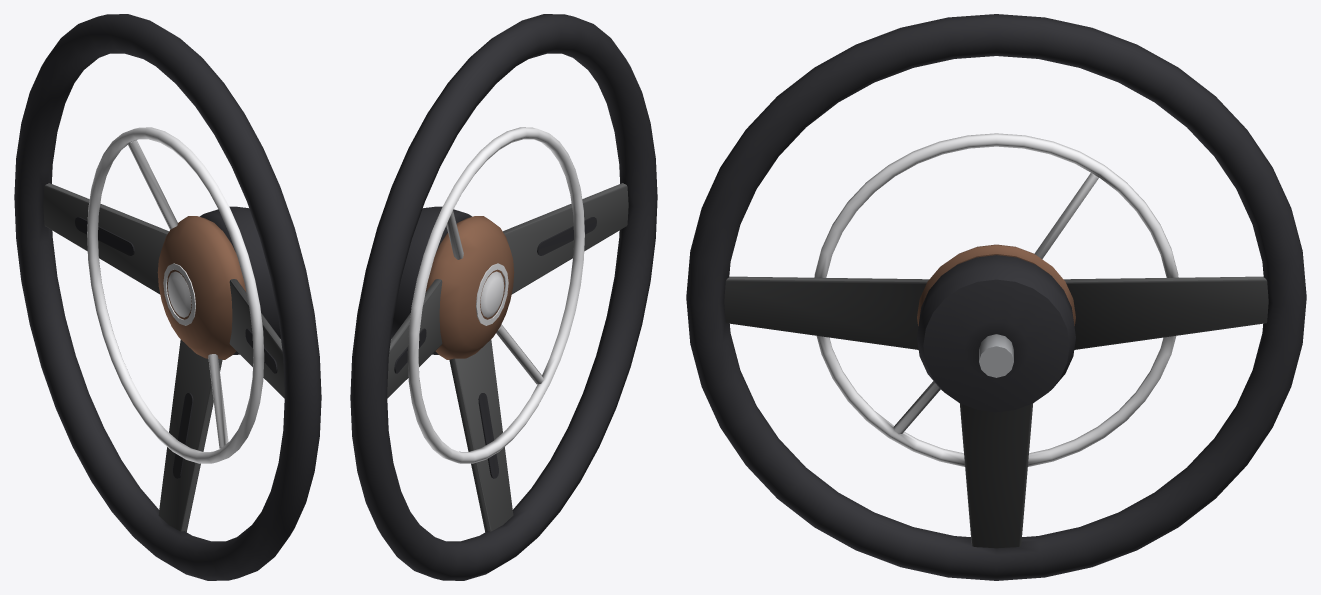
File: steer_std.glb
The picture shows the model from 3 angles, left to right: view 1: azimuth 30°, elevation 25°; view 2: azimuth 150°, elevation 25°; view 3: azimuth 270°, elevation 25°; orthographic projection. The views are drawn at different scales.
Visible parts, largest first — view 1: PART; view 2: PART; view 3: PART.
Part boxes in pixels (x1,y1,x2,y2): PART: [14, 14, 321, 580]; PART: [350, 14, 657, 580]; PART: [686, 14, 1306, 580].
Size of the model in its own units: 0.108 by 0.3897 by 0.3897.
